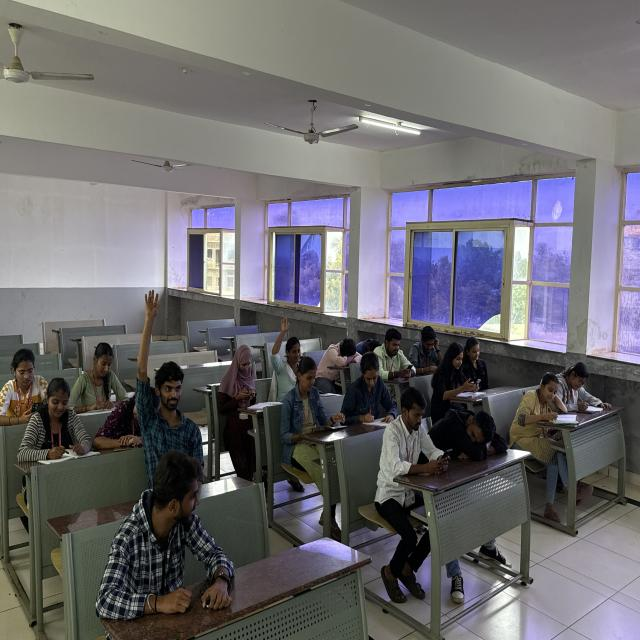Hand Rising: (130, 282, 208, 466), (267, 307, 310, 397)
Reading: (278, 356, 352, 453), (72, 334, 132, 420)
Sleeping: (314, 334, 366, 387)
Using Phone: (216, 341, 269, 448), (0, 345, 59, 430), (424, 338, 483, 399), (371, 325, 417, 381)
Writing: (13, 375, 102, 471), (507, 370, 572, 448), (338, 349, 401, 428), (554, 362, 612, 414)
